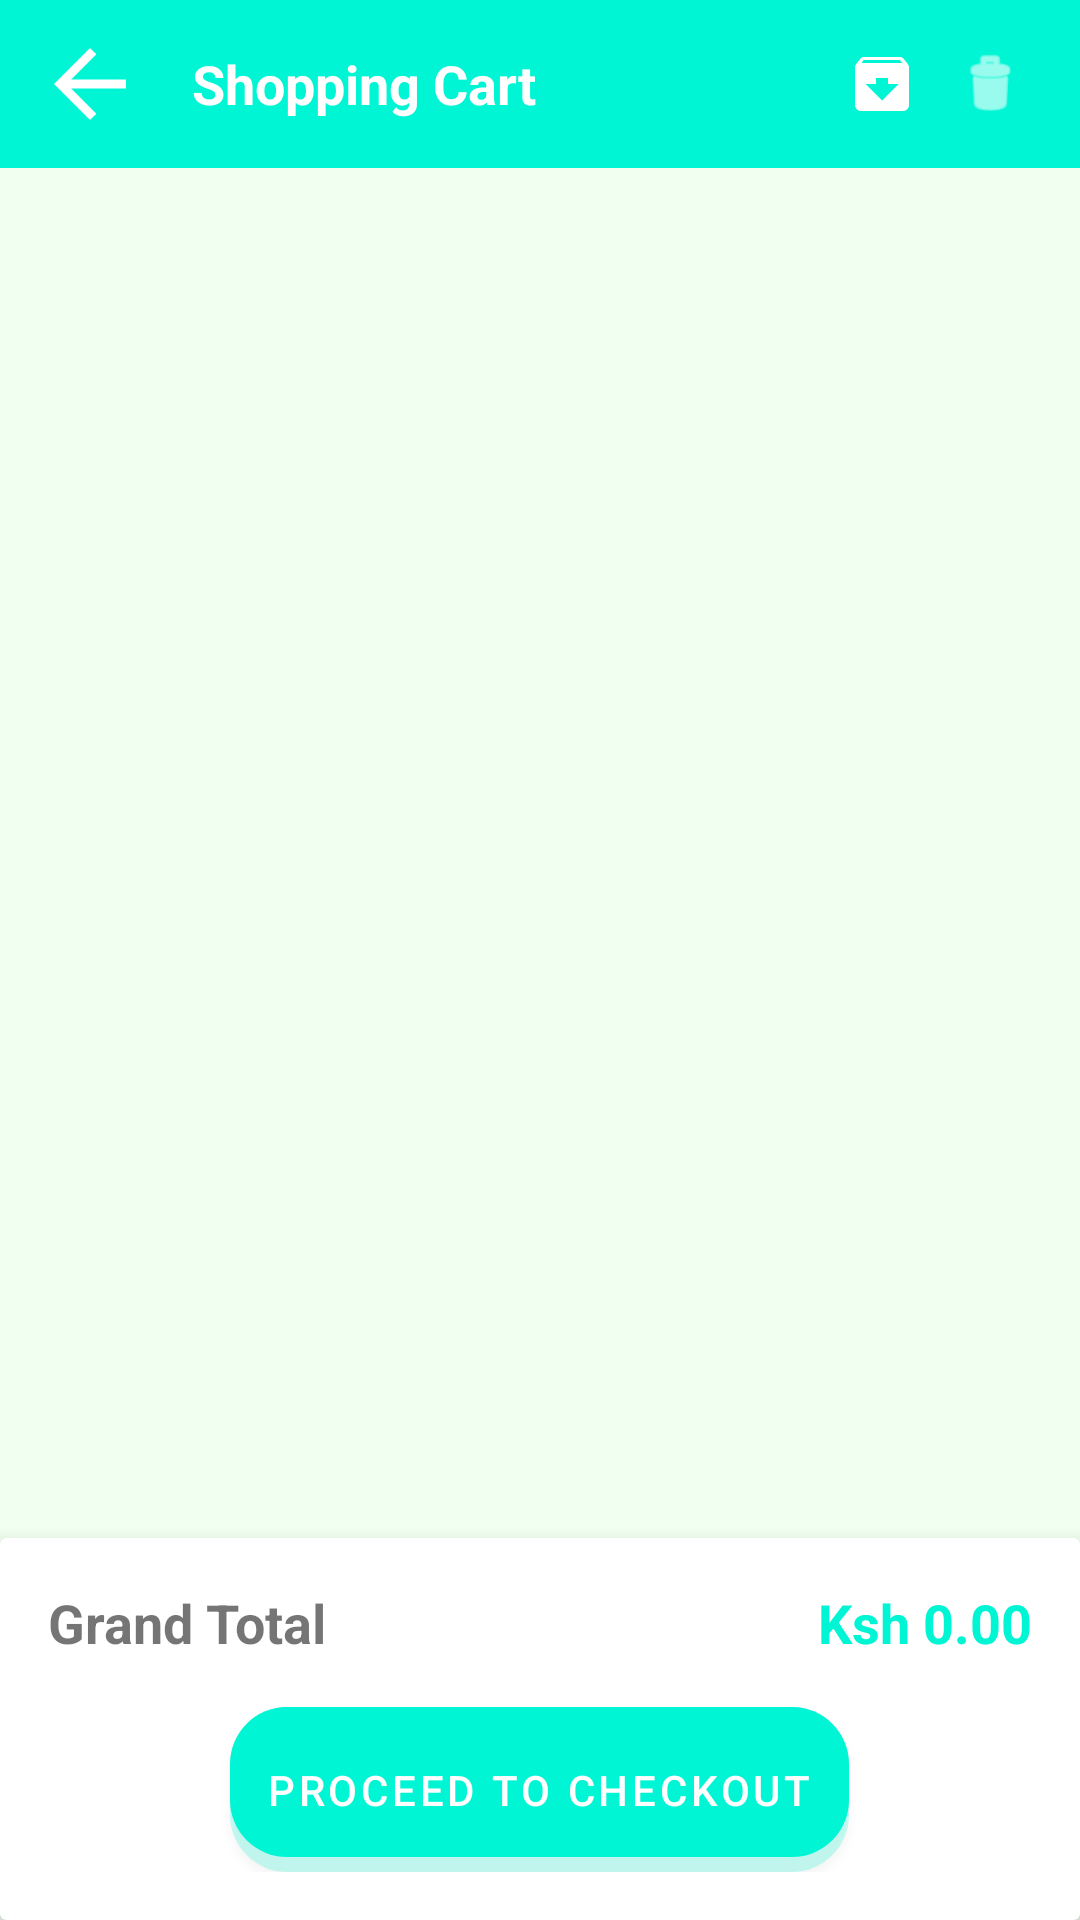

Icon click points for this 1080*1920 phone screenshot, format [x,y]:
Back: [90,84]
Clear Cart: [990,83]
Park Cart: [882,84]
